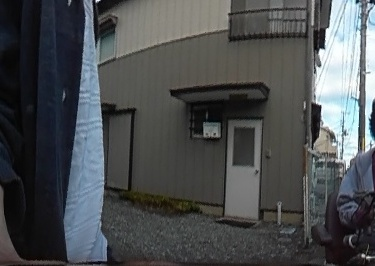person: (338, 93, 375, 230)
